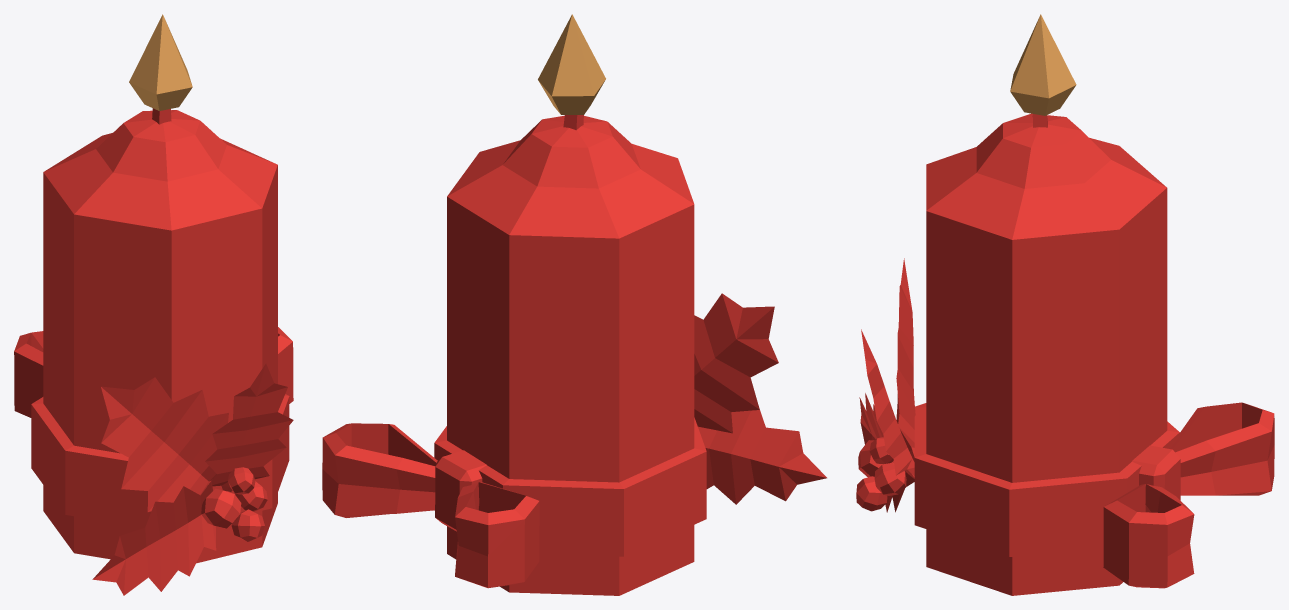
File: SM_Candle_Decorated_Lit_Christmas.fbx
The picture shows the model from 3 angles, left to right: view 1: azimuth 30°, elevation 25°; view 2: azimuth 150°, elevation 25°; view 3: azimuth 270°, elevation 25°; orthographic projection. The views are drawn at different scales.
Parts seen in each view (by area): view 1: candle-decorated-lit-christmas; view 2: candle-decorated-lit-christmas; view 3: candle-decorated-lit-christmas.
Boxes of the visible parts, bbox=[...] form: candle-decorated-lit-christmas: bbox=[14, 14, 293, 595]; candle-decorated-lit-christmas: bbox=[322, 14, 826, 595]; candle-decorated-lit-christmas: bbox=[856, 14, 1274, 595].
Bounding box in the file's own units: 0.1354 × 0.1962 × 0.1403.
